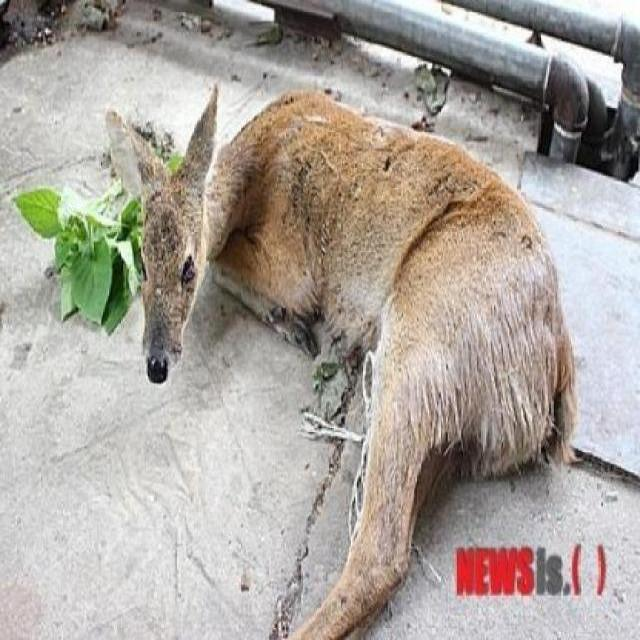deer: (107, 66, 586, 545)
